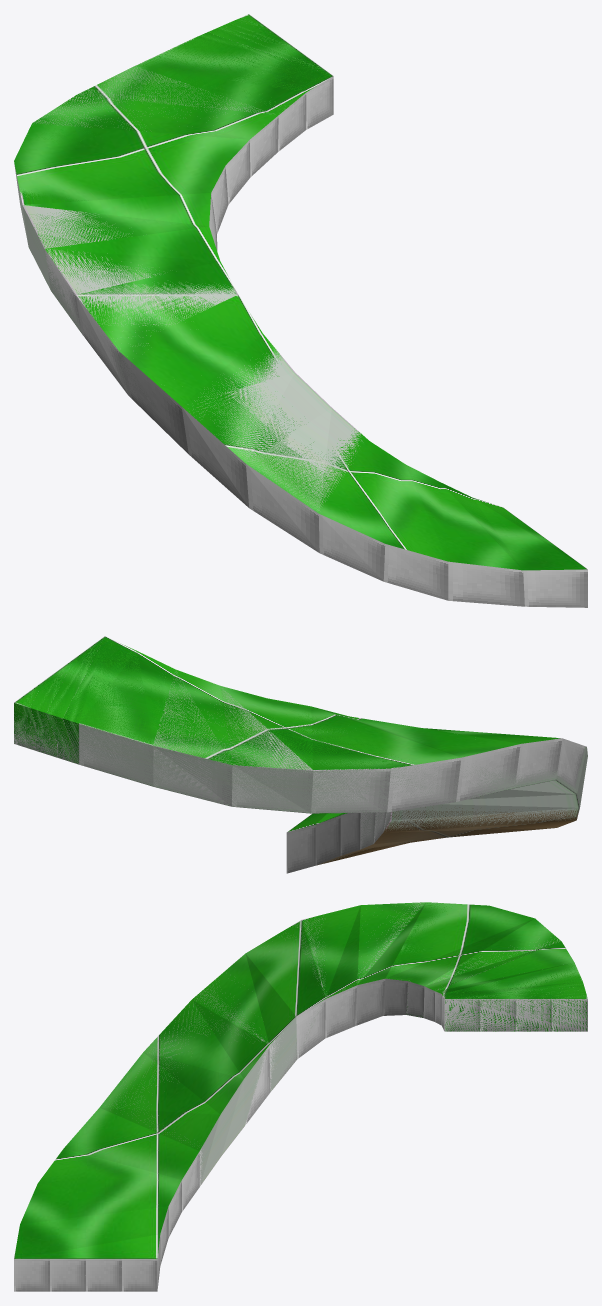
File: CurvedPlatform_2Radius_2Height.fbx
3 views of the same model, one above another, from view 1: azimuth 30°, elevation 25°; view 2: azimuth 150°, elevation 25°; view 3: azimuth 270°, elevation 25° (orthographic). The views are drawn at different scales.
Parts seen in each view (by area): view 1: Cylinder, Cylinder.001; view 2: Cylinder, Cylinder.001; view 3: Cylinder, Cylinder.001.
Boxes of the visible parts, bbox=[...] form: Cylinder: bbox=[14, 14, 587, 607]; Cylinder.001: bbox=[14, 14, 362, 510]; Cylinder: bbox=[14, 636, 585, 873]; Cylinder.001: bbox=[14, 636, 587, 847]; Cylinder: bbox=[14, 902, 587, 1291]; Cylinder.001: bbox=[116, 902, 587, 1185].
Size of the model in its own units: 4.66 by 4.5 by 8.
Materials: 3 (3 with a texture image).
